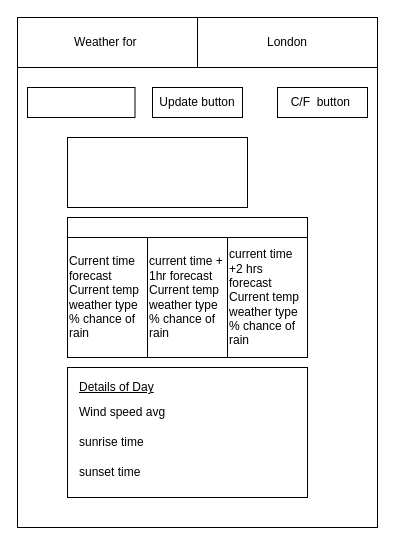
This 395x545 diagram has some shape labels left out. Here are the shapes that lost their labels. From the top down, the centre of each, then its label:
(x=80, y=102): Last updated time.
(x=157, y=172): Temperature Type of weather Daily max and min
(x=187, y=227): Hourly forecast
